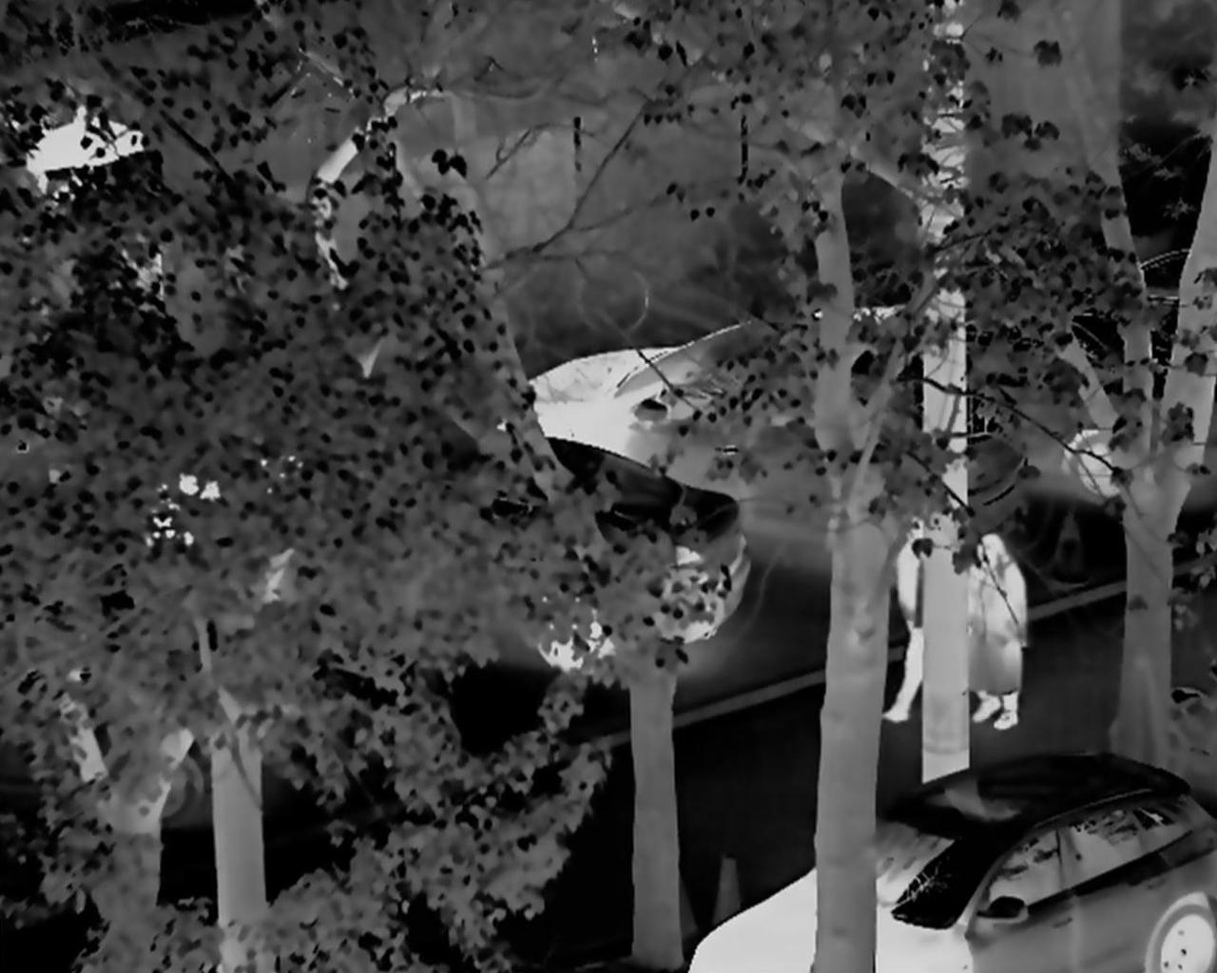person: (879, 505, 946, 726), (956, 522, 1028, 727)
